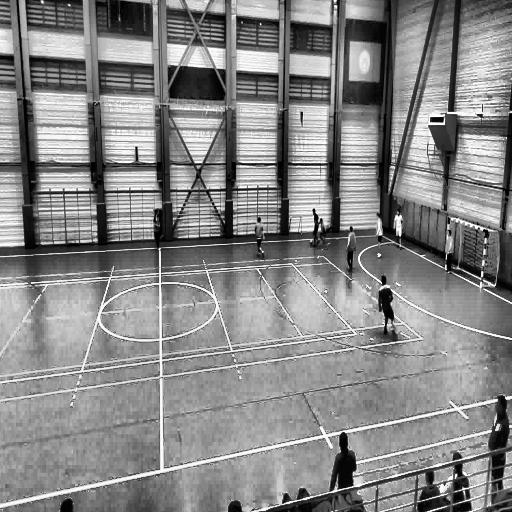ball: (310, 238, 312, 244)
player: (329, 433, 358, 511), (489, 396, 510, 500), (378, 274, 395, 335), (346, 226, 356, 272), (444, 228, 454, 272), (254, 217, 264, 258), (393, 210, 403, 250), (311, 208, 320, 246), (376, 212, 383, 256), (319, 218, 328, 248)
